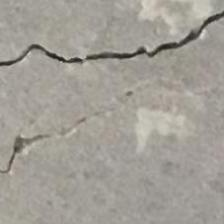Crack: (0, 13, 224, 92)
